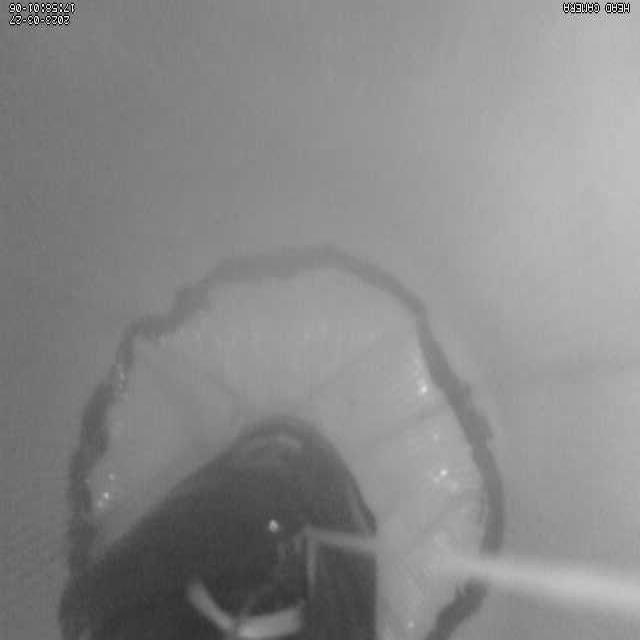red-circle: (66, 244, 508, 640)
